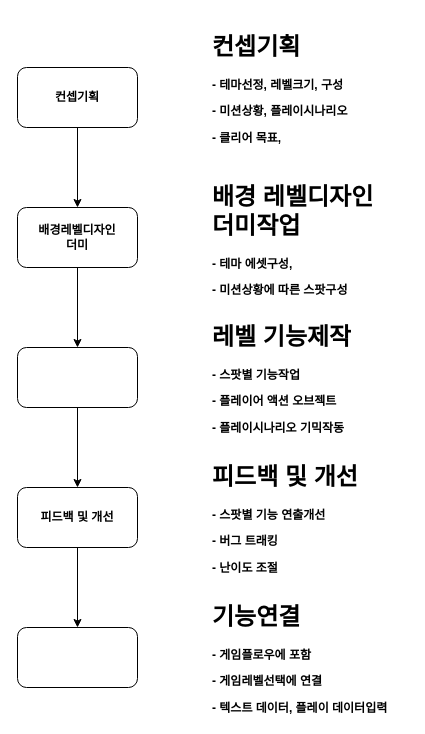
Image size: 425x734. Some labels were removed from this diagram. The centre of each missing label's shape, as x and y in pixels:
"기능연결" belongs at [77,657].
"레벨기능제작" belongs at [77,377].
